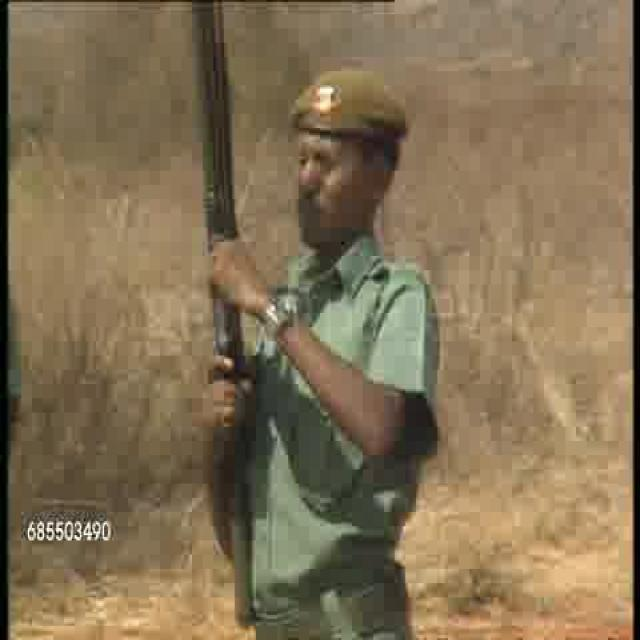poacher: (255, 53, 426, 617)
weapon: (192, 2, 259, 610)
